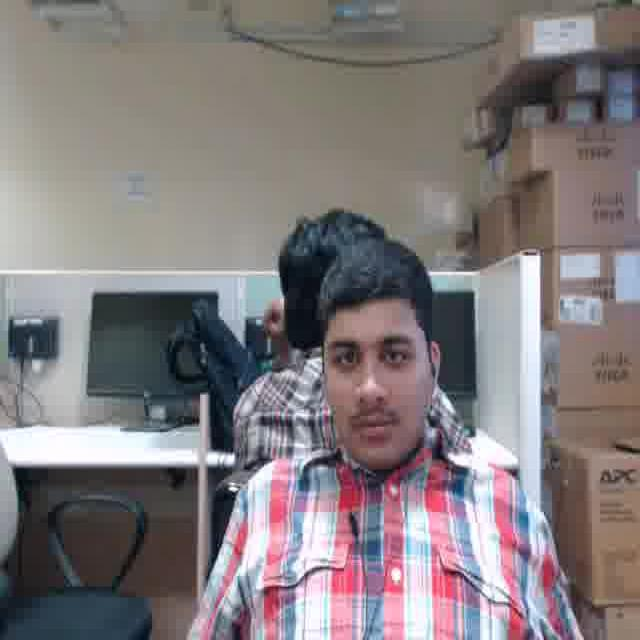Engaged: (324, 301, 423, 464)
